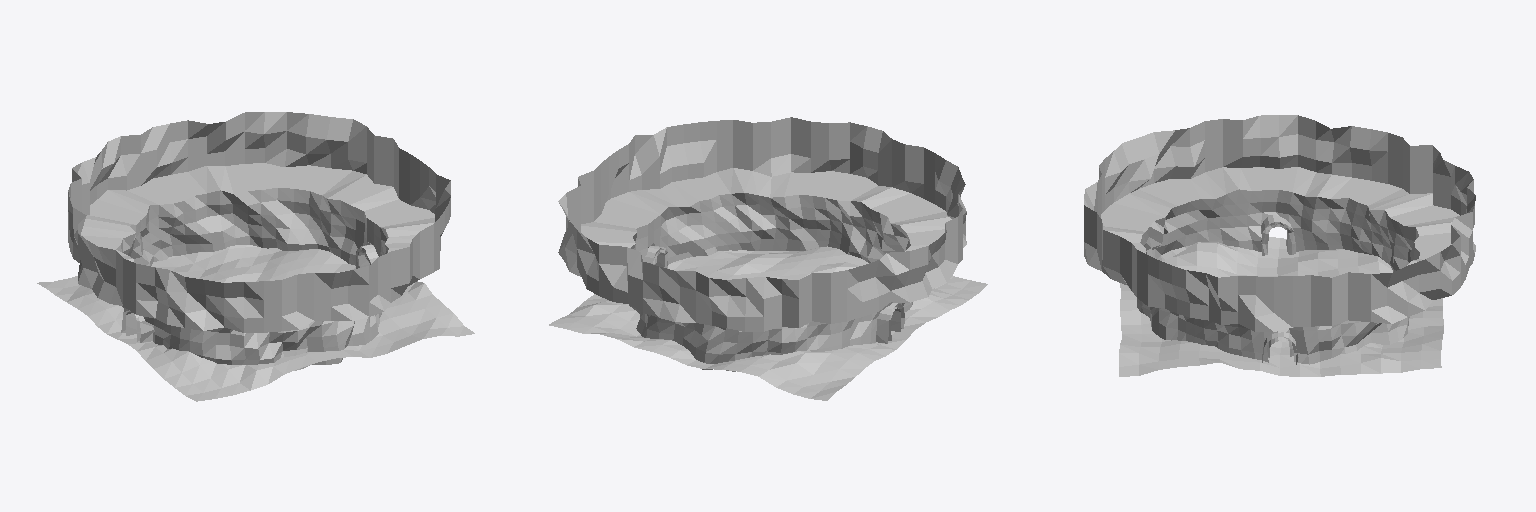
The model's file is MapColisseum.obj.
3 views of the same model, side by side, from view 1: azimuth 30°, elevation 25°; view 2: azimuth 150°, elevation 25°; view 3: azimuth 270°, elevation 25° (orthographic).
Visible parts, largest first — view 1: Colisseum_Mesh; view 2: Colisseum_Mesh; view 3: Colisseum_Mesh.
Boxes of the visible parts, x1=… form: Colisseum_Mesh: x1=37, y1=112, x2=474, y2=401; Colisseum_Mesh: x1=549, y1=117, x2=987, y2=400; Colisseum_Mesh: x1=1084, y1=115, x2=1475, y2=376.
Bounding box in the file's own units: 515 × 169 × 515.